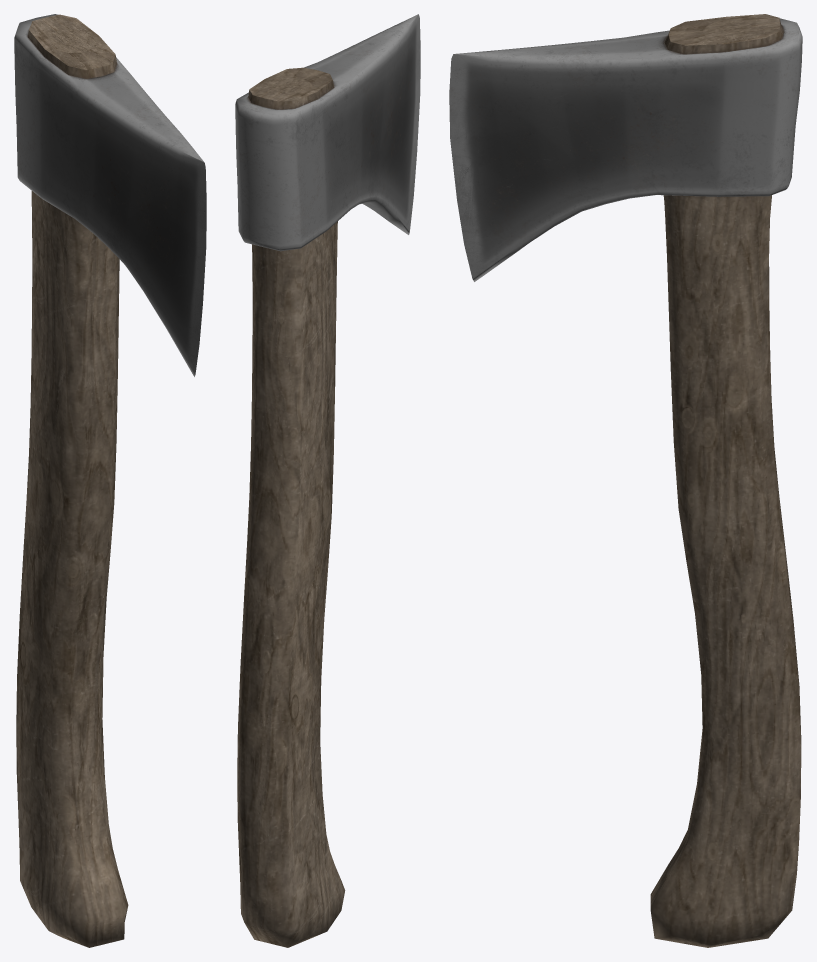
The model's file is axe.gltf.
The picture shows the model from 3 angles, left to right: view 1: azimuth 30°, elevation 25°; view 2: azimuth 150°, elevation 25°; view 3: azimuth 270°, elevation 25°; orthographic projection. The views are drawn at different scales.
Visible parts, largest first — view 1: Object_2; view 2: Object_2; view 3: Object_2.
Boxes of the visible parts, x1,y1,x2,y2 form: Object_2: (14,14,206,947); Object_2: (235,14,420,947); Object_2: (449,14,802,947).
Size of the model in its own units: 0.0514 by 0.6424 by 0.225.
1 material, 1 textured.
